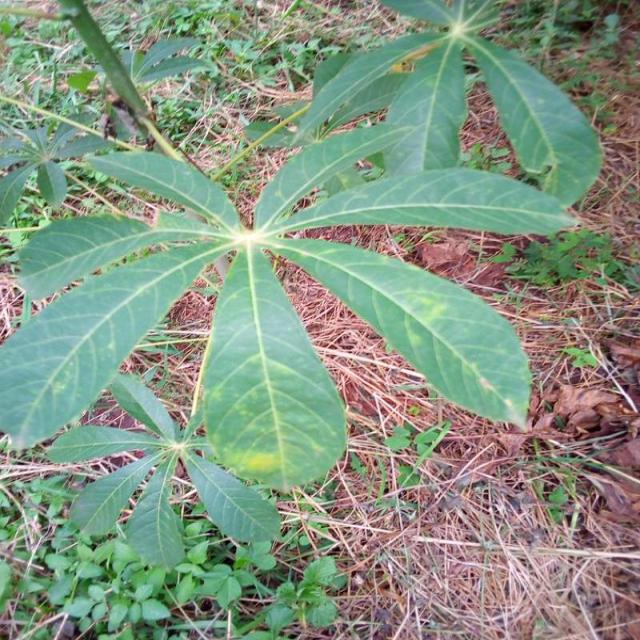cassava leaf: (263, 234, 532, 431), (200, 241, 347, 493)
